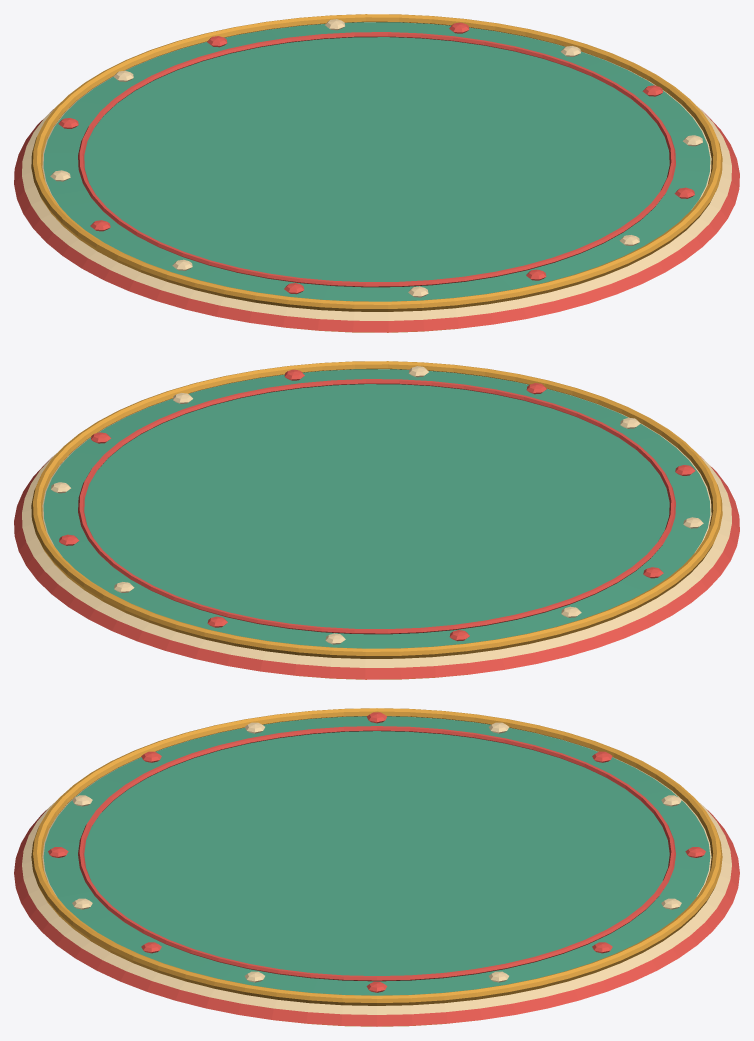
Rendered from ParkParkTeacupsPlatform.obj.
The picture shows the model from 3 angles, top to bottom: view 1: azimuth 30°, elevation 25°; view 2: azimuth 150°, elevation 25°; view 3: azimuth 270°, elevation 25°; orthographic projection.
Parts seen in each view (by area): view 1: ParkParkTeacupsPlatform; view 2: ParkParkTeacupsPlatform; view 3: ParkParkTeacupsPlatform.
Part boxes in pixels (x1=…): ParkParkTeacupsPlatform: x1=14, y1=14, x2=739, y2=332; ParkParkTeacupsPlatform: x1=14, y1=361, x2=739, y2=679; ParkParkTeacupsPlatform: x1=14, y1=708, x2=739, y2=1026.
Bounding box in the file's own units: 18.4 × 0.85 × 18.4.
